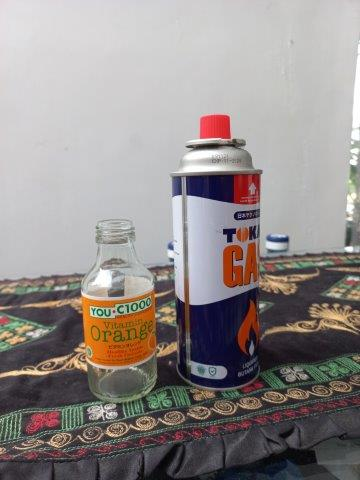botolkaca: (83, 219, 158, 402)
kaleng: (171, 115, 260, 392)
